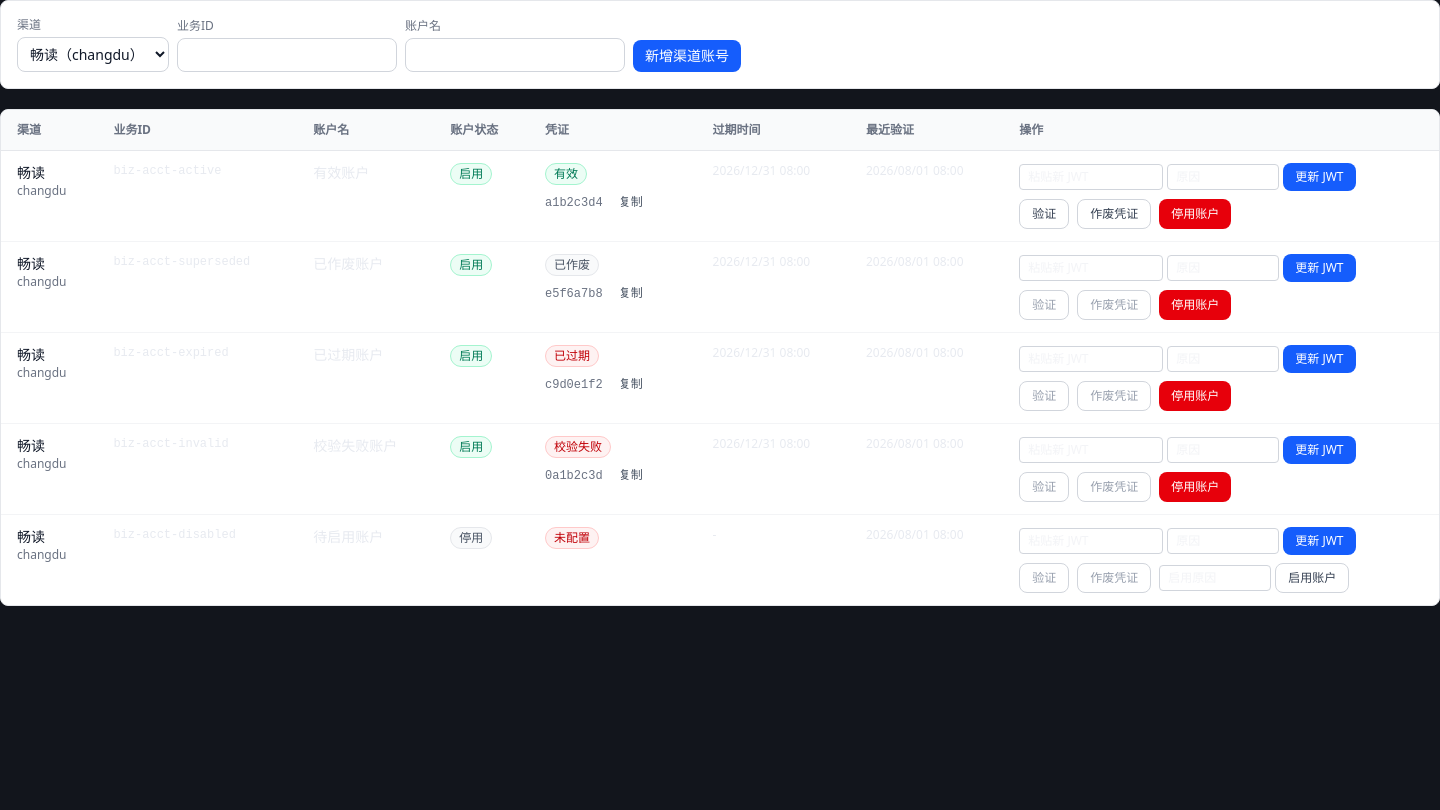
任务面板与 credential_task_not_found › task missing 是独立分支：清掉面板，用前端自己的文案，不解析服务端文本
Click the button "验证" in the row of "a1b2c3d4" at (1044, 214), box [1019, 199, 1069, 229]
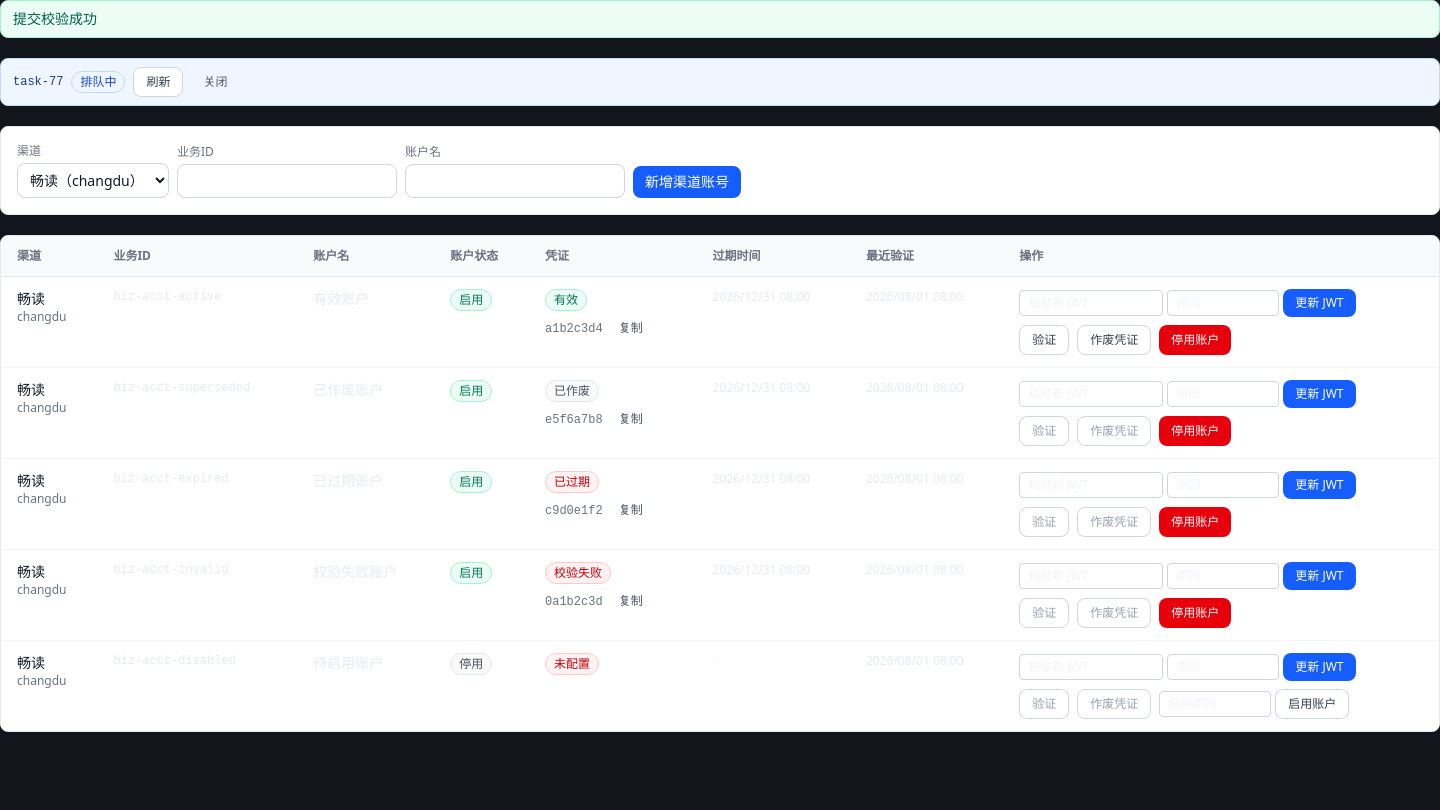
Check: the text "排队中" is shown, box [71, 71, 125, 93]
Click the button "刷新" at (158, 82), box [133, 67, 183, 97]
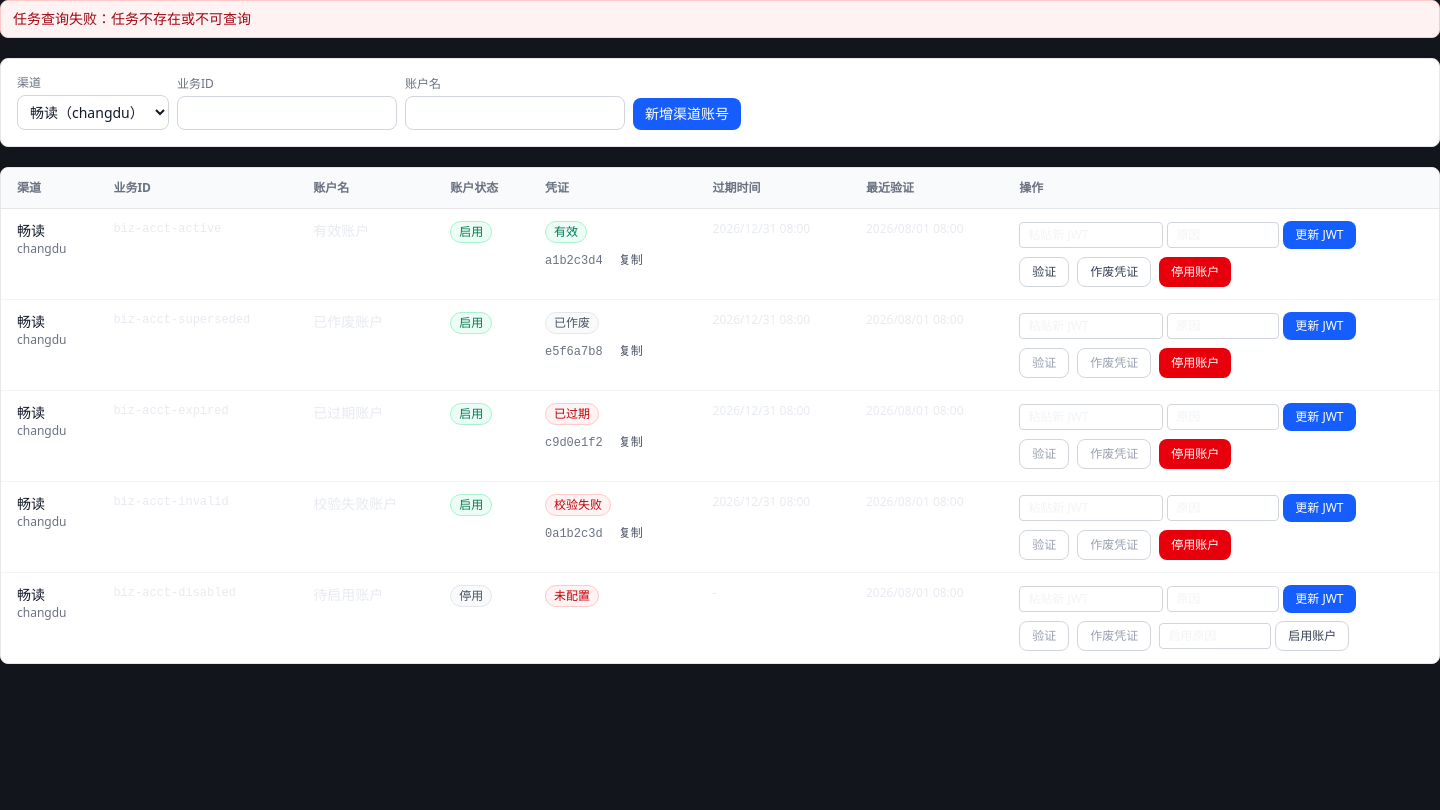
Check: the text "task-77" is gone
Check: the text "排队中" is gone
Check: the message shows "任务不存在或不可查询", box [13, 9, 251, 28]
